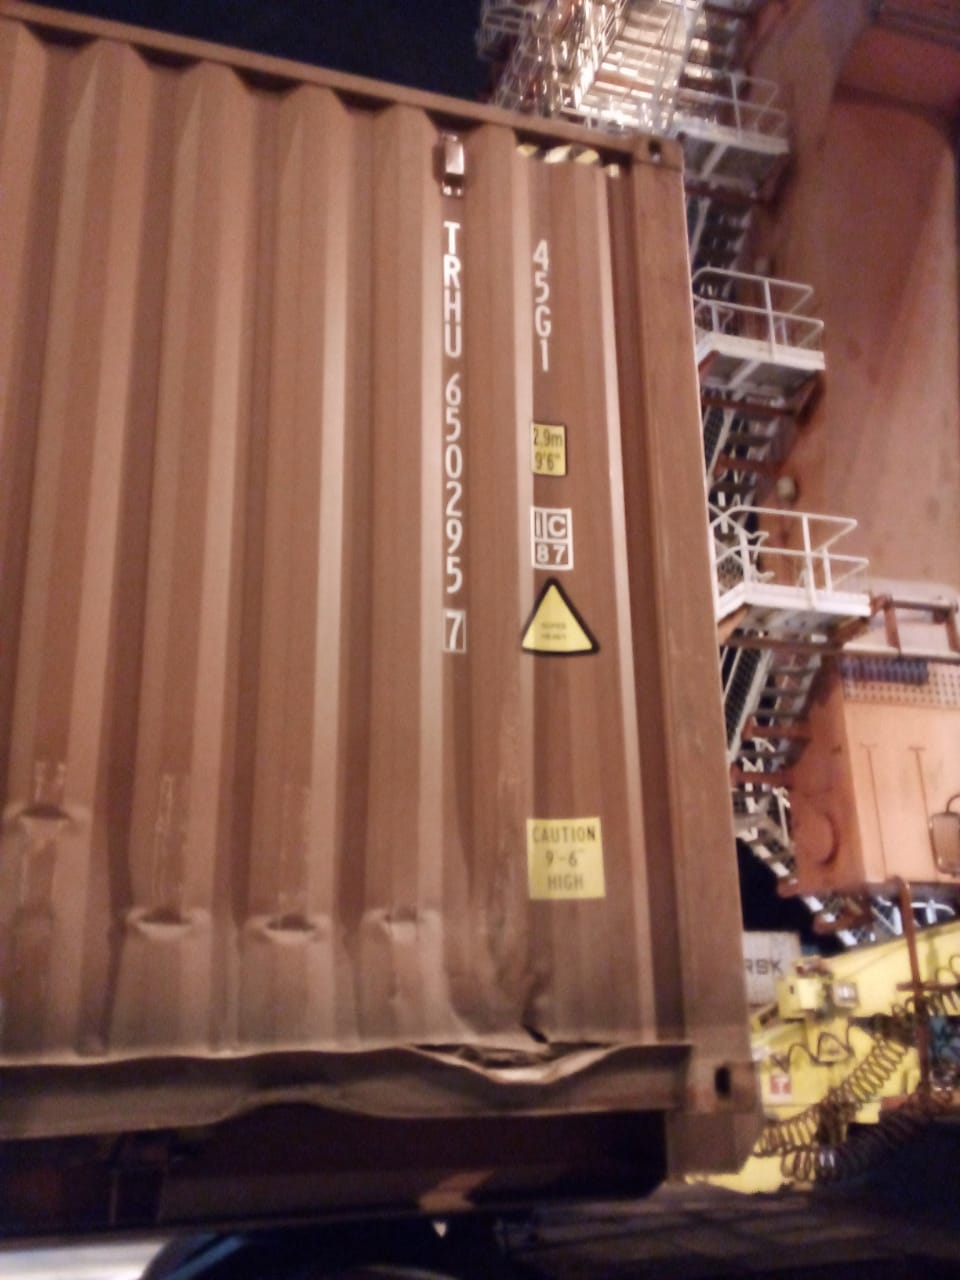dented: (93, 899, 507, 981), (406, 1013, 690, 1096), (1, 757, 147, 863)
